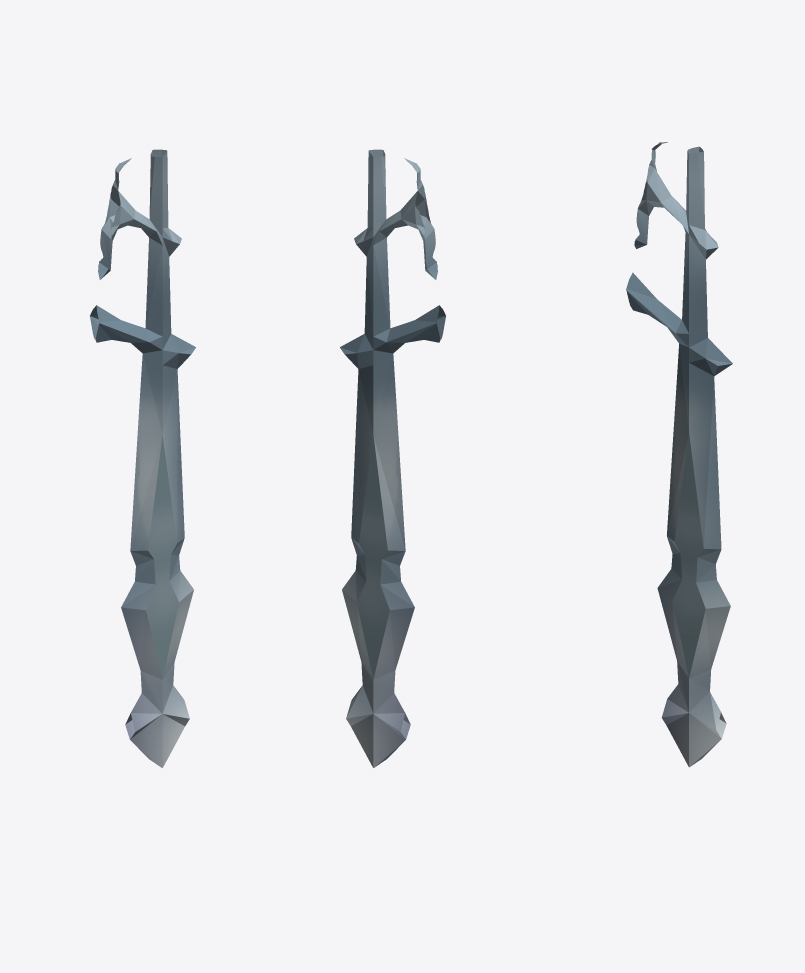
File: rejectionoffate.obj
3 views of the same model, side by side, from view 1: azimuth 30°, elevation 25°; view 2: azimuth 150°, elevation 25°; view 3: azimuth 330°, elevation 25° (orthographic).
Bounding box in the file's own units: 82.52 × 310 × 6.
